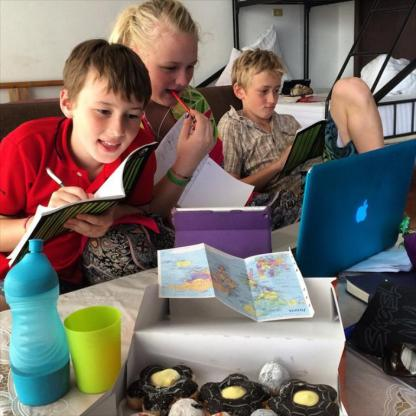board: (295, 139, 415, 278), (6, 238, 72, 407), (66, 305, 121, 395)
